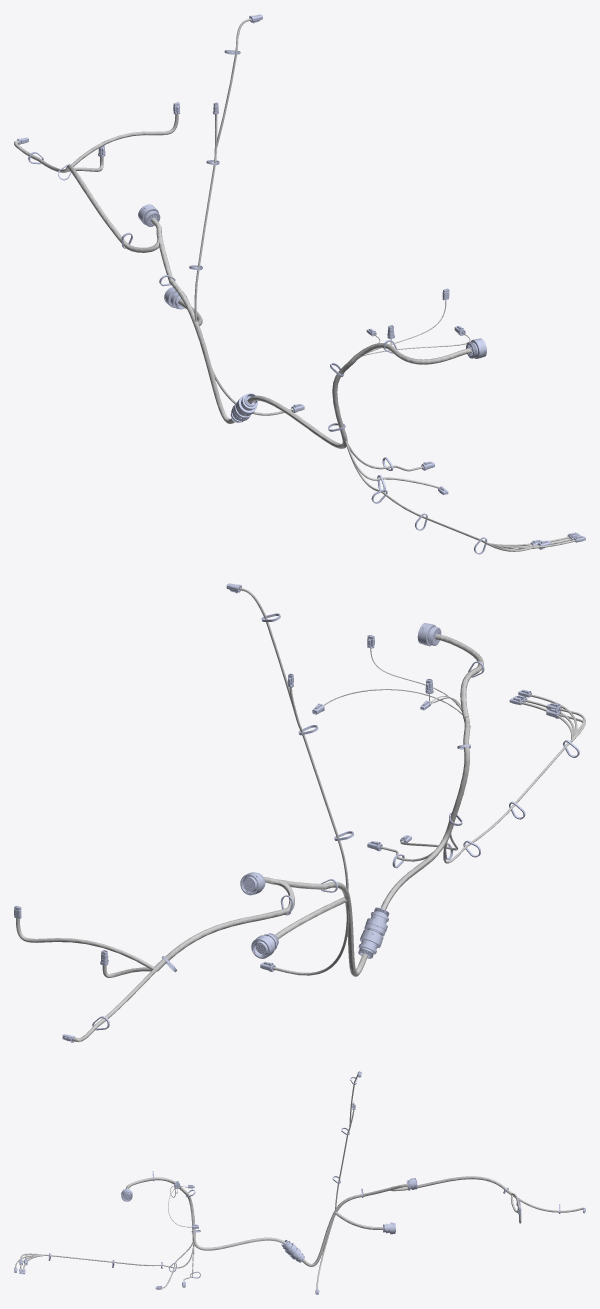
The model's file is wireharness.glb.
3 renders of one model, top to bottom at view 1: azimuth 30°, elevation 25°; view 2: azimuth 150°, elevation 25°; view 3: azimuth 270°, elevation 25°, orthographic. The views are drawn at different scales.
Visible parts, largest first — view 1: empty_78, empty_30; view 2: empty_78, empty_67, empty_30, empty_29, empty_31; view 3: empty_78, empty_29.
Boxes of the visible parts, x1,y1,x2,y2 form: empty_78: [65, 165, 161, 252]; empty_30: [353, 343, 471, 364]; empty_78: [154, 879, 294, 971]; empty_67: [16, 918, 155, 969]; empty_30: [435, 634, 483, 717]; empty_29: [380, 825, 453, 909]; empty_31: [448, 717, 470, 826]; empty_78: [390, 1176, 512, 1194]; empty_29: [192, 1237, 285, 1250].
Bounding box in the file's own units: 473 × 1036 × 2453.
